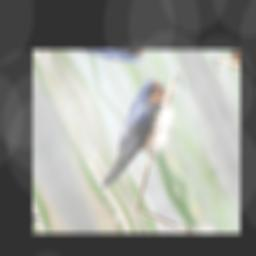Swallow: (68, 74, 195, 189)
